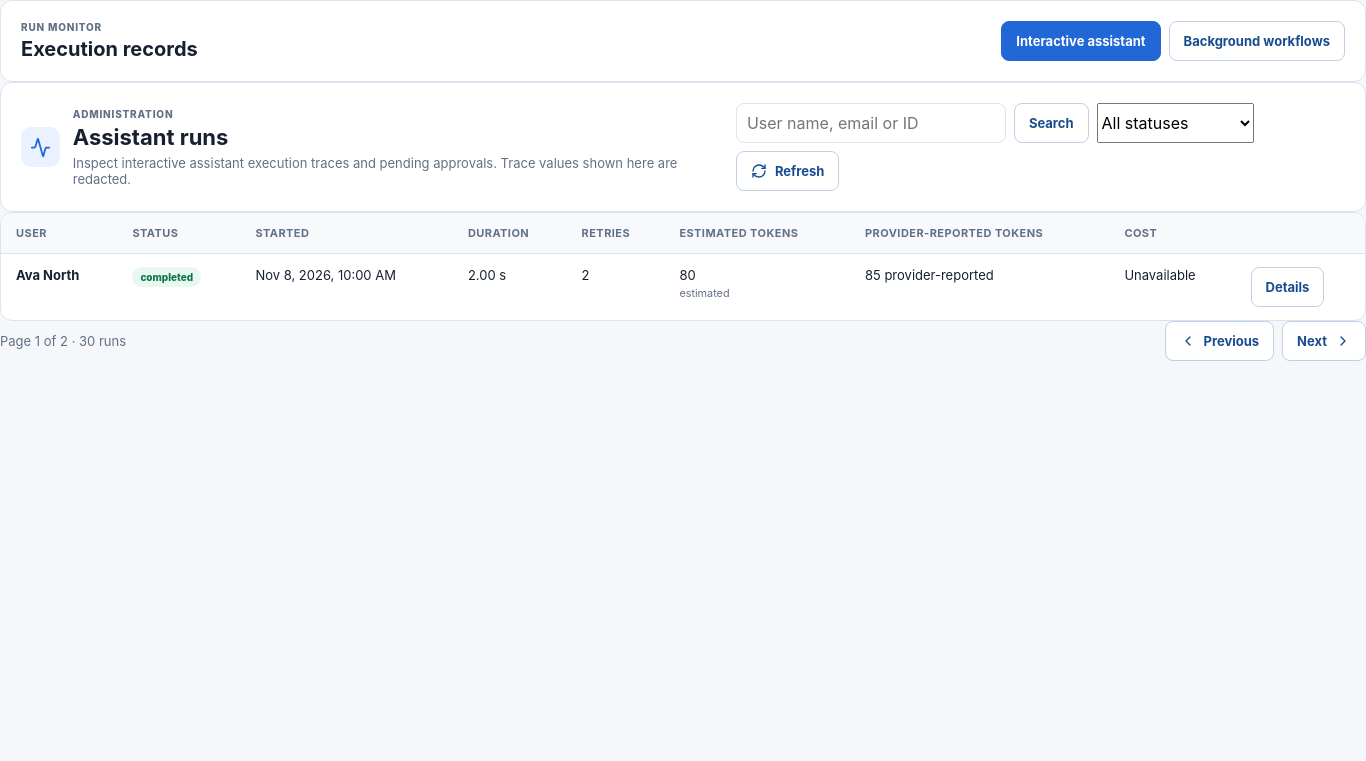
it: AdminAssistantRunsPage › renders only the API redacted trace and pending approval metadata
Check: the table named "Assistant runs" is shown, box top-left (1, 213), bottom-right (1365, 320)
Click the button with aria-label "View run run-1" at (1288, 287), box top-left (1251, 267), bottom-right (1324, 307)
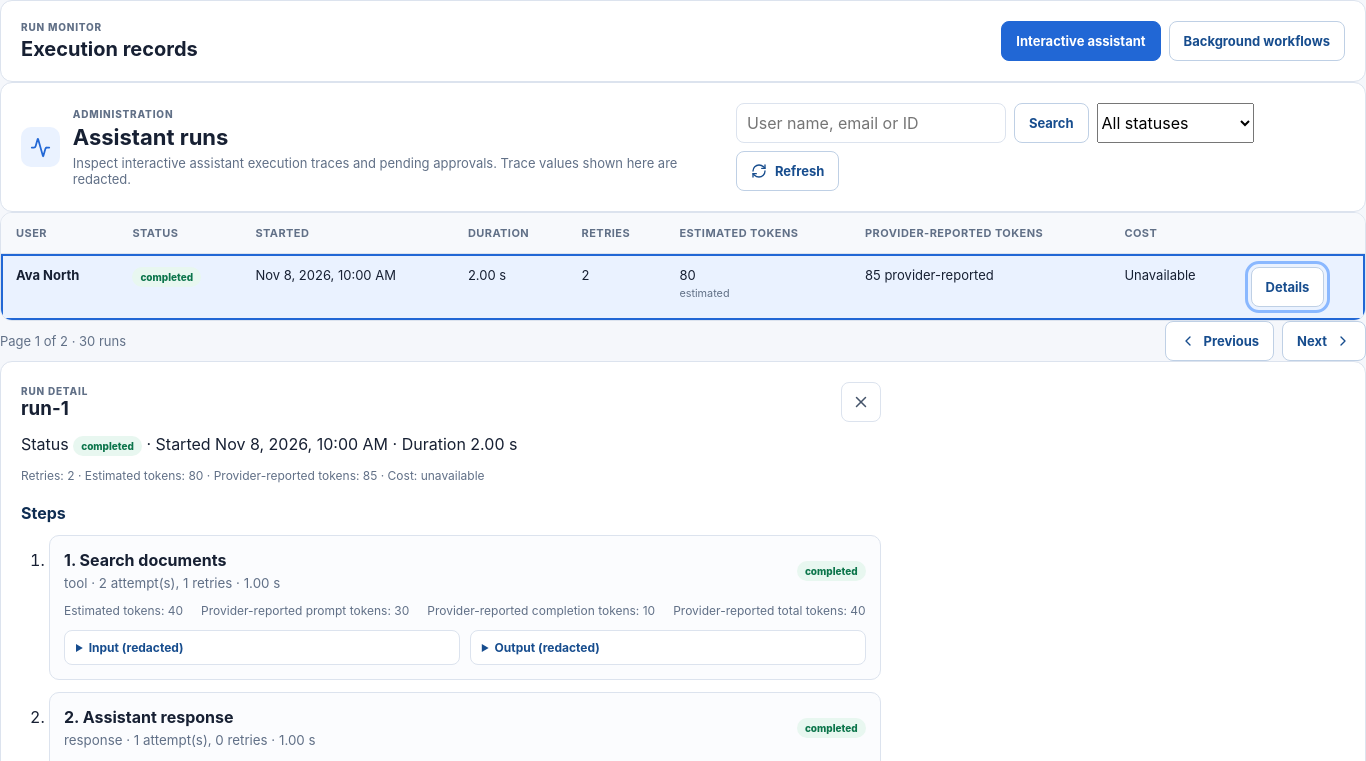
Check: the text "1. Search documents" is shown, box top-left (64, 550), bottom-right (226, 570)
Check: the text "2. Assistant response" is shown, box top-left (64, 707), bottom-right (234, 727)
Click the heading "Input (redacted)" at (136, 648), box top-left (89, 640), bottom-right (184, 655)
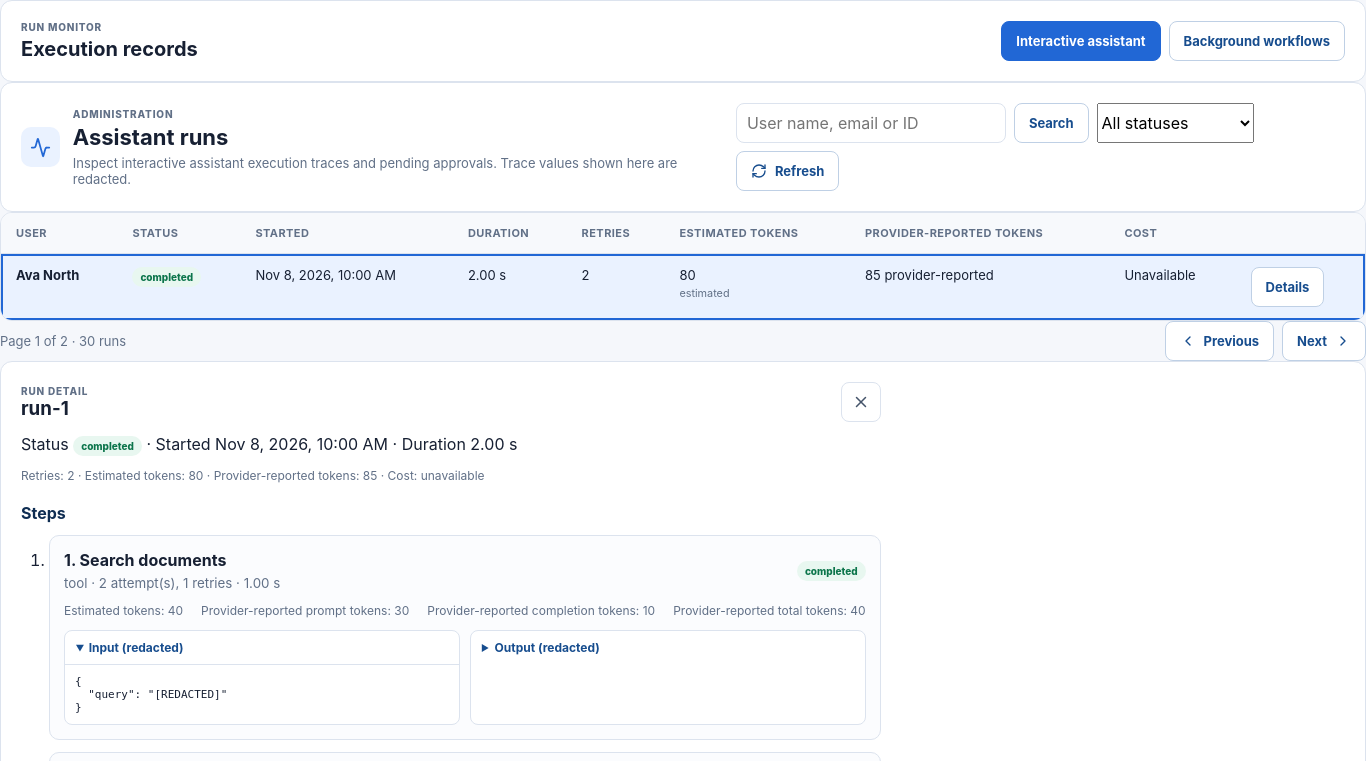
Click the heading "Output (redacted)" at (547, 648), box top-left (494, 640), bottom-right (600, 655)
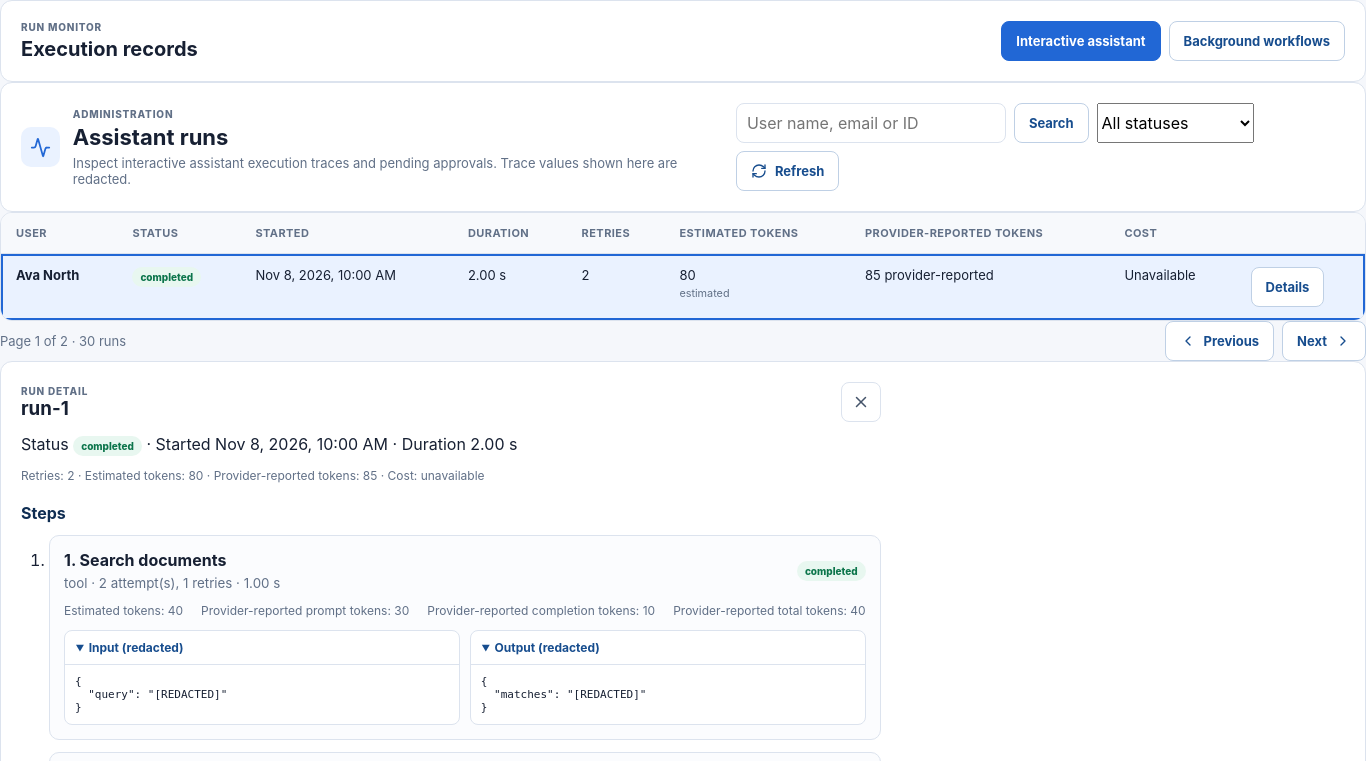
Check: the text "{ \"query\": \"[REDACTED]\" }" shows "\"query\": \"[REDACTED]\"", box top-left (75, 675), bottom-right (227, 714)
Check: the text "Cost: unavailable" is shown, box top-left (377, 468), bottom-right (485, 483)
Check: the text "{ \"matches\": \"[REDACTED]\" }" shows "\"matches\": \"[REDACTED]\"", box top-left (481, 675), bottom-right (646, 714)
